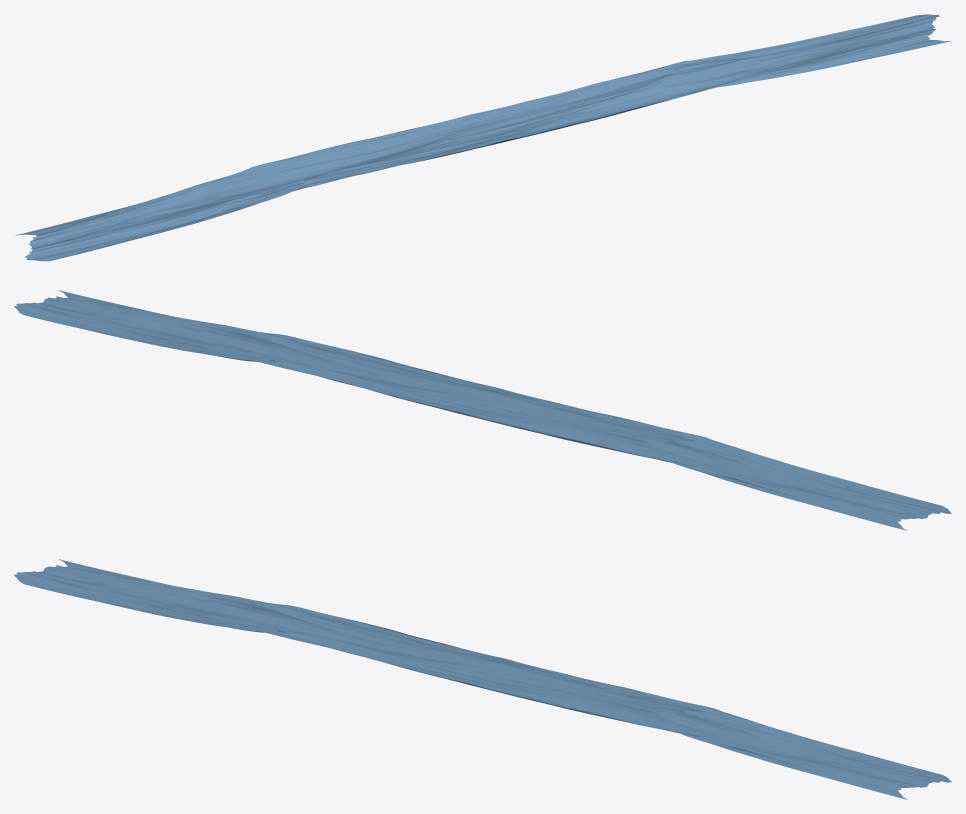
Rendered from arroyo.glb.
3 renders of one model, top to bottom at view 1: azimuth 30°, elevation 25°; view 2: azimuth 150°, elevation 25°; view 3: azimuth 330°, elevation 25°, orthographic. The views are drawn at different scales.
Visible parts, largest first — view 1: arroyo-water; view 2: arroyo-water; view 3: arroyo-water.
Part boxes in pixels (left/top/right/bottom): arroyo-water: left=15, top=14, right=951, bottom=261; arroyo-water: left=14, top=290, right=951, bottom=530; arroyo-water: left=14, top=559, right=951, bottom=799.
Bounding box in the file's own units: 38 × 0.4697 × 2.6.
